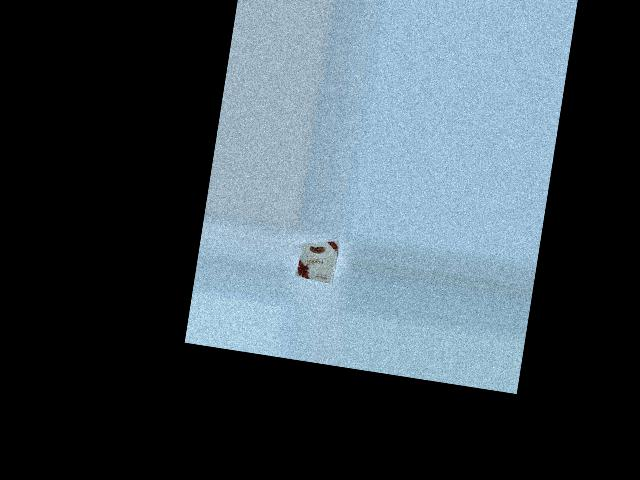chocolate: (294, 233, 348, 284)
